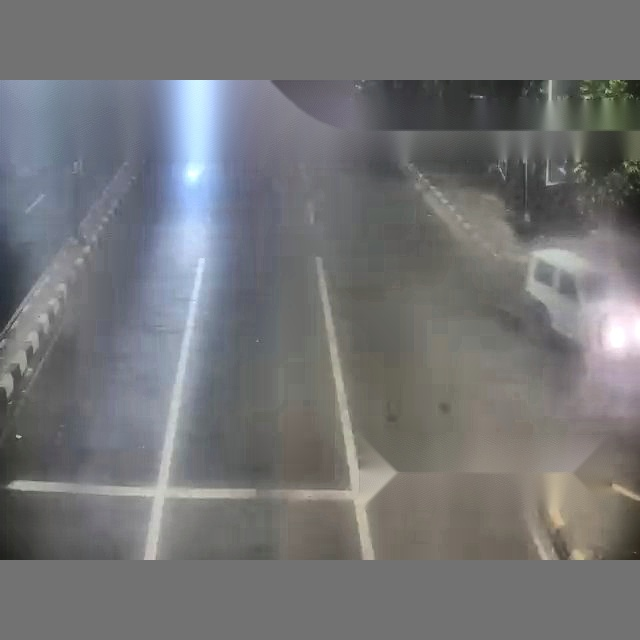Mobil: (525, 249, 585, 342)
